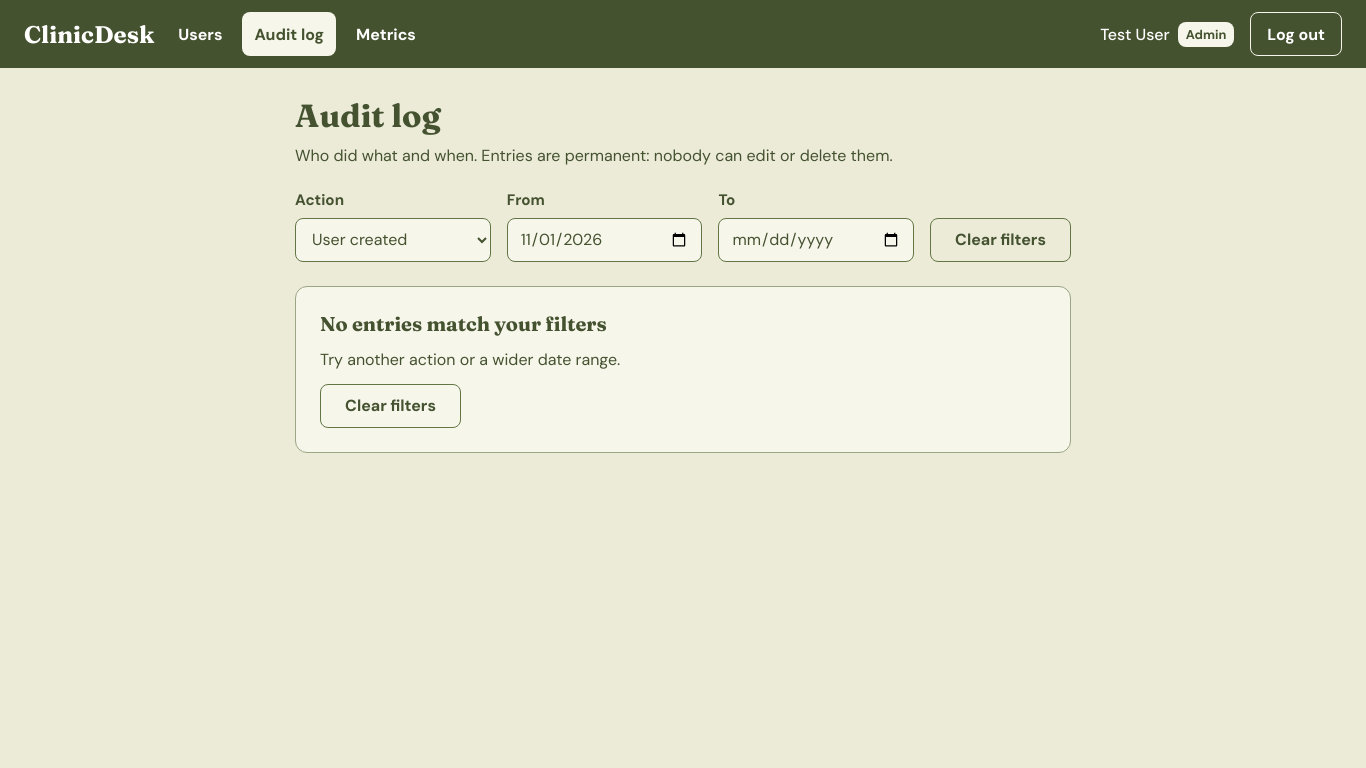
Scenario: filters › shows a no-match state with a button that clears the filters
This screenshot has width=1366, height=768.
Click the button "Clear filters" below "No entries match your filters". click: (390, 406)
box: top-left (320, 384), bottom-right (461, 428)
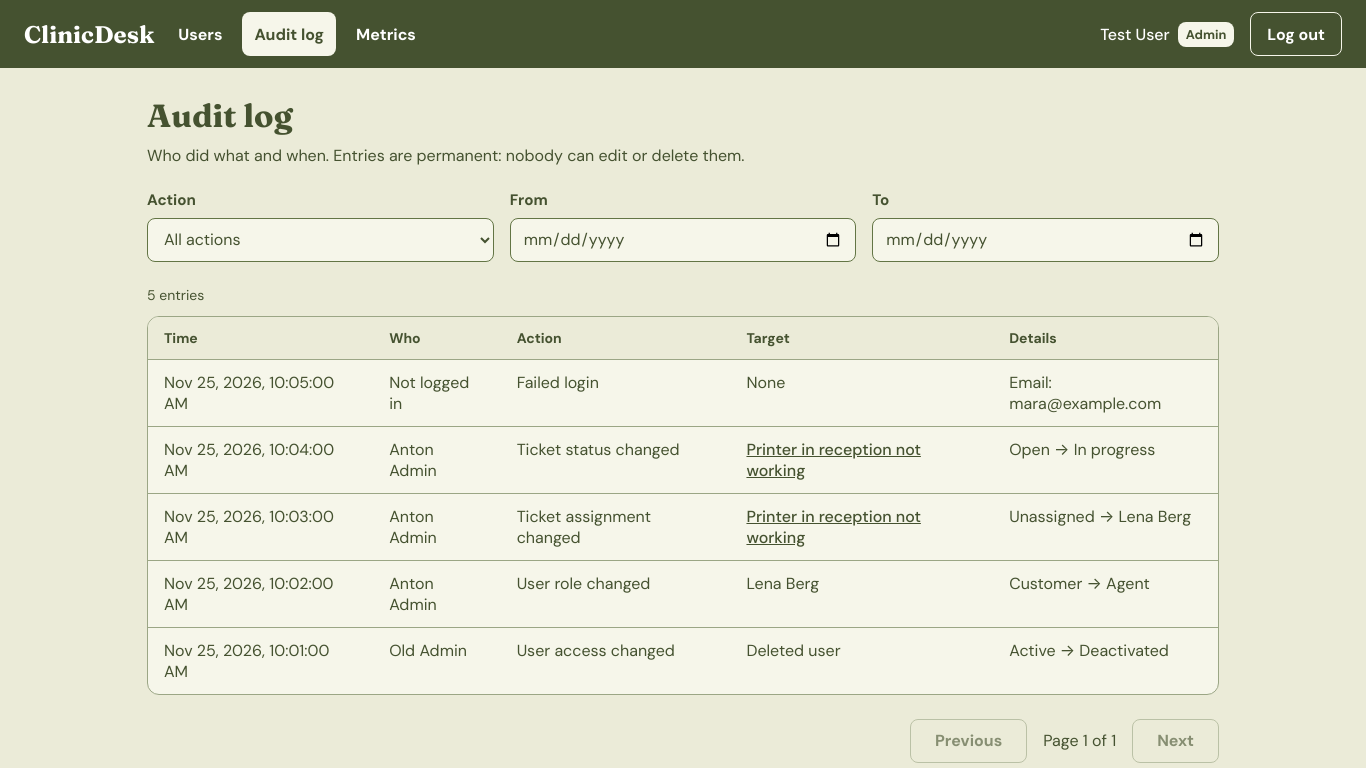
Now the table is shown, box top-left (148, 317), bottom-right (1218, 694)
